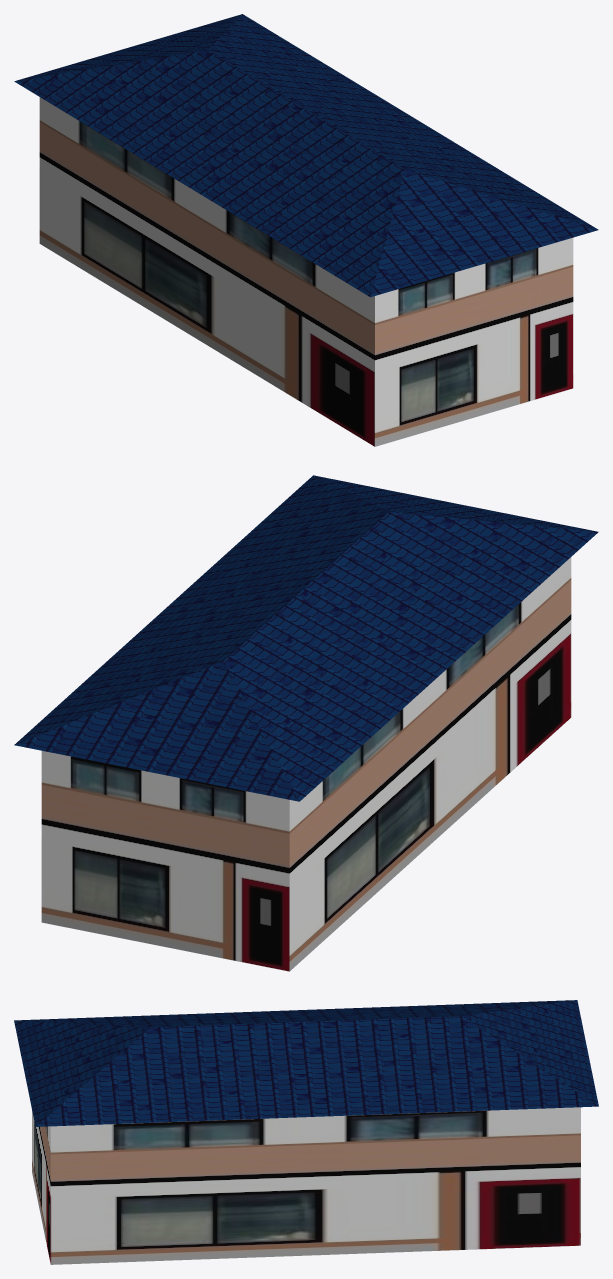
3 views of the same model, one above another, from view 1: azimuth 30°, elevation 25°; view 2: azimuth 150°, elevation 25°; view 3: azimuth 270°, elevation 25° (orthographic). The views are drawn at different scales.
Parts seen in each view (by area): view 1: CityEngineMaterial_5_m, CityEngineMaterial_6_m; view 2: CityEngineMaterial_6_m, CityEngineMaterial_5_m; view 3: CityEngineMaterial_5_m, CityEngineMaterial_6_m.
Boxes of the visible parts, <box> form: CityEngineMaterial_5_m: <box>39,97,573,446</box>; CityEngineMaterial_6_m: <box>14,14,598,297</box>; CityEngineMaterial_6_m: <box>14,475,598,801</box>; CityEngineMaterial_5_m: <box>41,557,571,971</box>; CityEngineMaterial_5_m: <box>32,1107,580,1264</box>; CityEngineMaterial_6_m: <box>14,1000,598,1126</box>.
Size of the model in its own units: 16.89 by 11.63 by 32.9.
